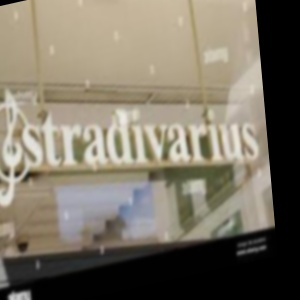stradivarius: (255, 28, 265, 106)
